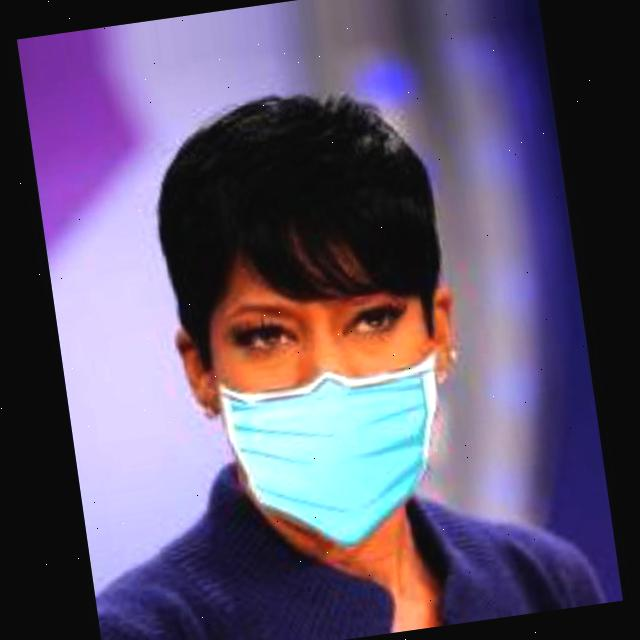suspicion: (80, 92, 478, 570)
